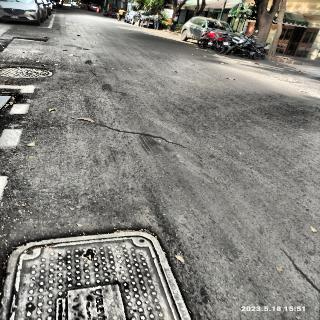crack: (98, 122, 188, 151), (279, 247, 318, 291), (0, 38, 12, 42)
pothole: (12, 36, 48, 43)
